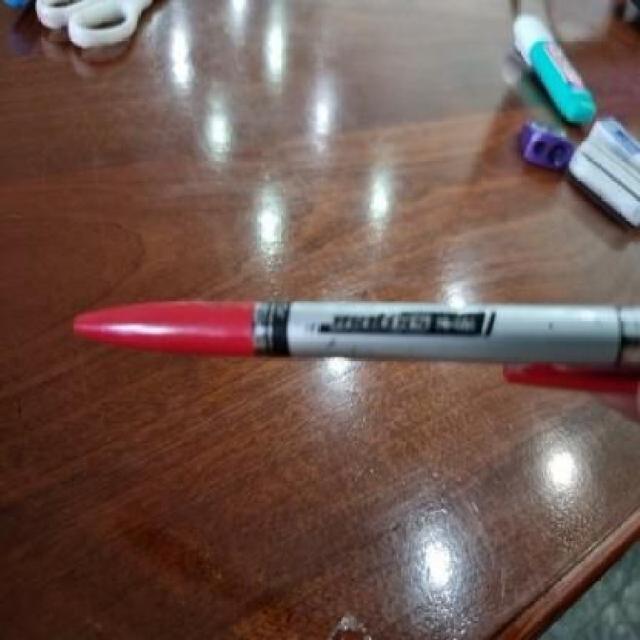not trash: (63, 297, 640, 365), (500, 10, 586, 116), (24, 0, 170, 58), (558, 119, 640, 219), (506, 112, 576, 179)
